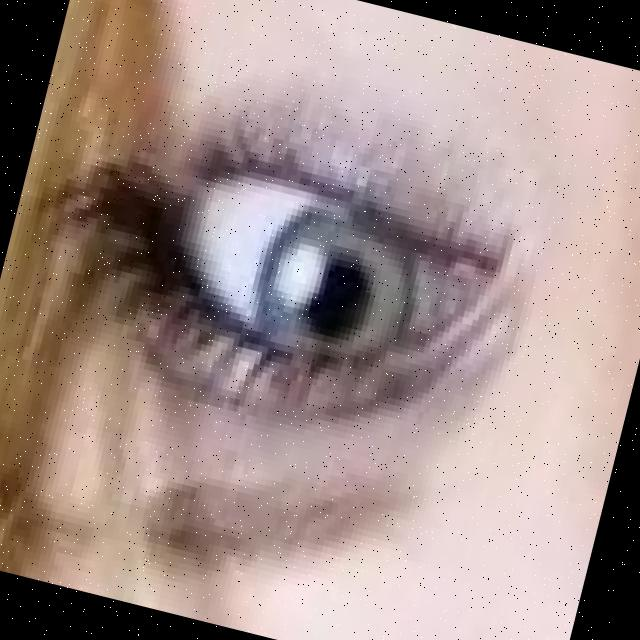Normal: (70, 116, 540, 398)
